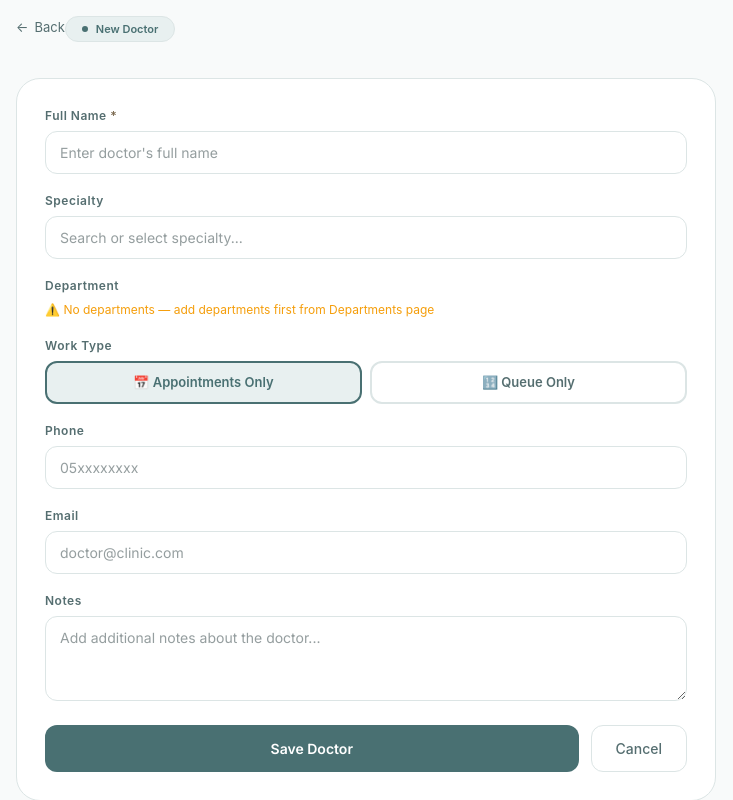
Test case: AddDoctor › requires a full name before submitting
Click the button "Save Doctor": [312, 748] box left=45, top=725, right=578, bottom=772
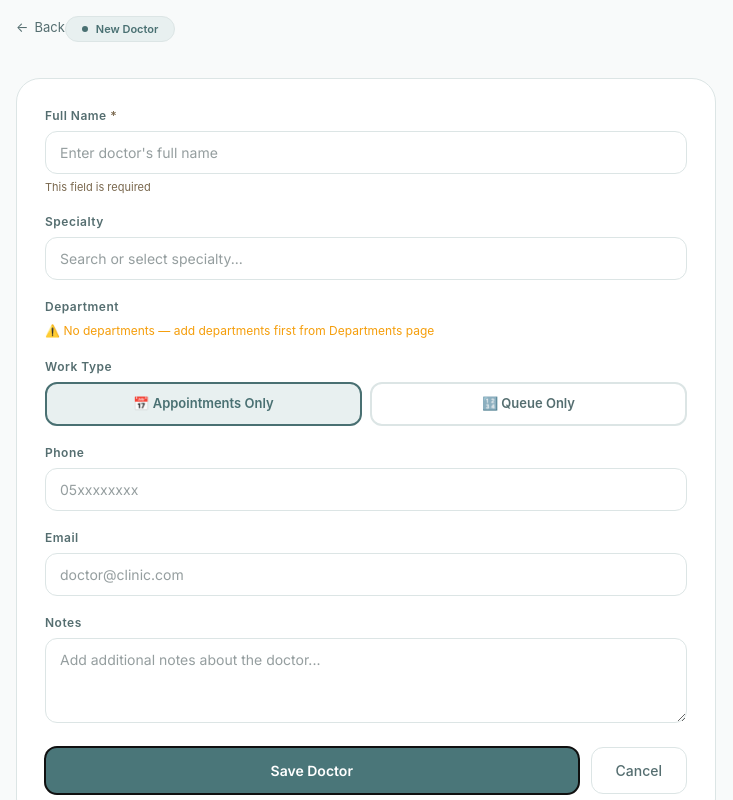
Expected: the text "This field is required" is shown, left=45, top=180, right=151, bottom=194
